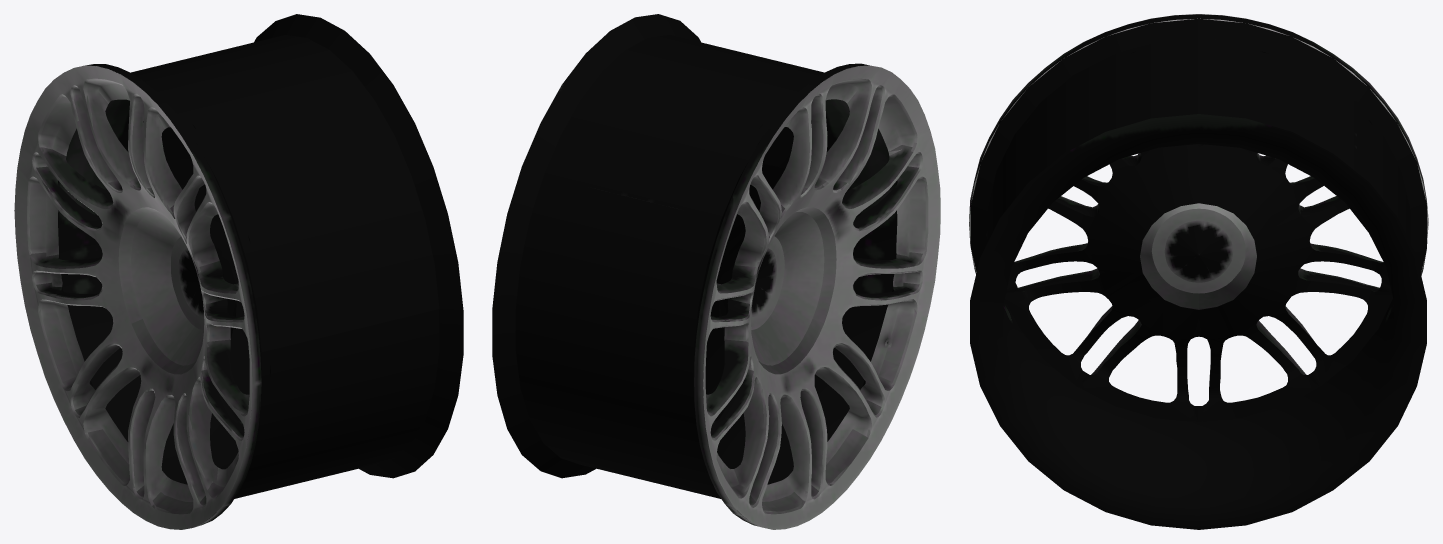
The model's file is bmw_wheel.fbx.
The picture shows the model from 3 angles, left to right: view 1: azimuth 30°, elevation 25°; view 2: azimuth 150°, elevation 25°; view 3: azimuth 270°, elevation 25°; orthographic projection. The views are drawn at different scales.
Visible parts, largest first — view 1: WHEEL_RR_SUB2_rim_0; view 2: WHEEL_RR_SUB2_rim_0; view 3: WHEEL_RR_SUB2_rim_0.
Boxes of the visible parts, bbox=[...] form: WHEEL_RR_SUB2_rim_0: bbox=[14, 14, 463, 529]; WHEEL_RR_SUB2_rim_0: bbox=[492, 14, 940, 529]; WHEEL_RR_SUB2_rim_0: bbox=[969, 14, 1428, 529].
Size of the model in its own units: 25.39 by 49.37 by 49.42.
